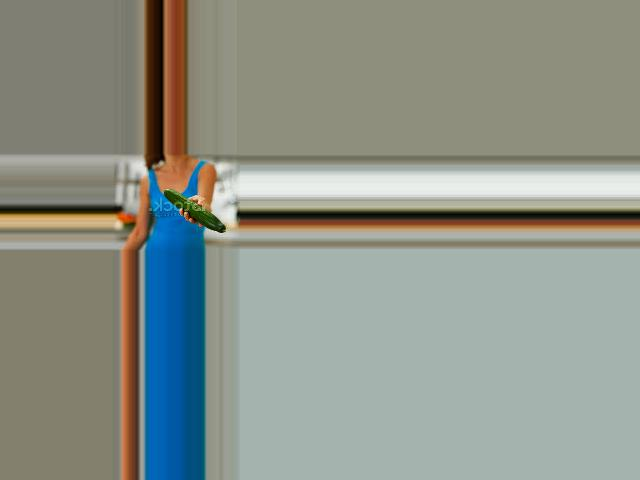cucumber: (163, 189, 225, 233)
